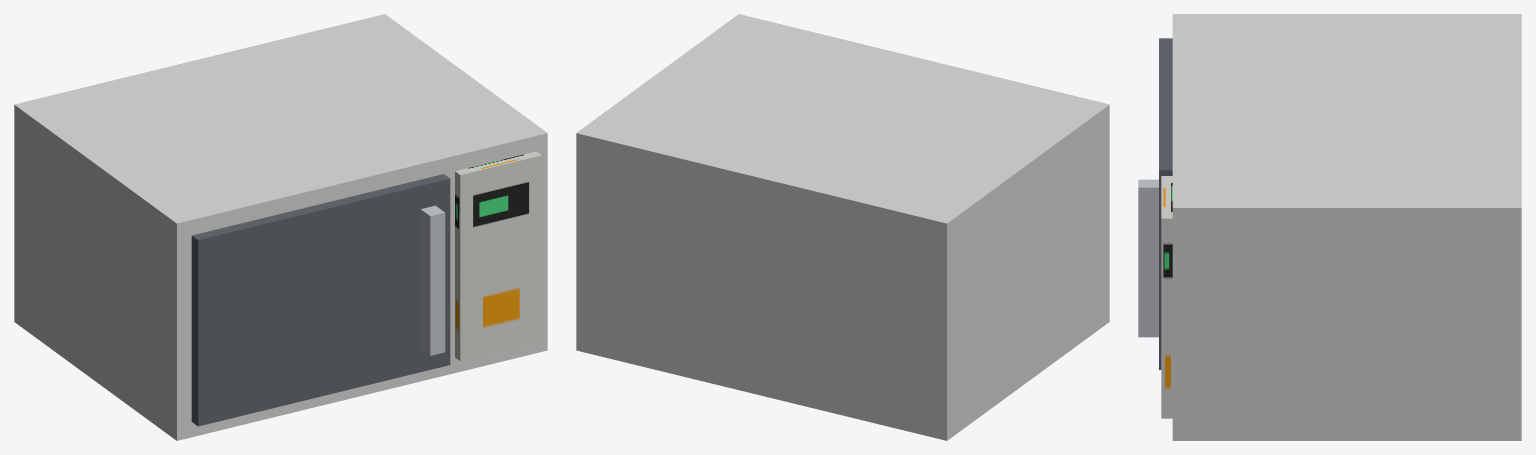
File: microwave_oven.glb
3 views of the same model, side by side, from view 1: azimuth 30°, elevation 25°; view 2: azimuth 150°, elevation 25°; view 3: azimuth 270°, elevation 25° (orthographic). The views are drawn at different scales.
Parts seen in each view (by area): view 1: microwave_oven; view 2: microwave_oven; view 3: microwave_oven.
Boxes of the visible parts, x1=… form: microwave_oven: x1=14, y1=14, x2=547, y2=440; microwave_oven: x1=576, y1=14, x2=1109, y2=440; microwave_oven: x1=1138, y1=14, x2=1521, y2=440.
Size of the model in its own units: 0.5 by 0.28 by 0.4175.
Materials: 4 (1 with a texture image).
